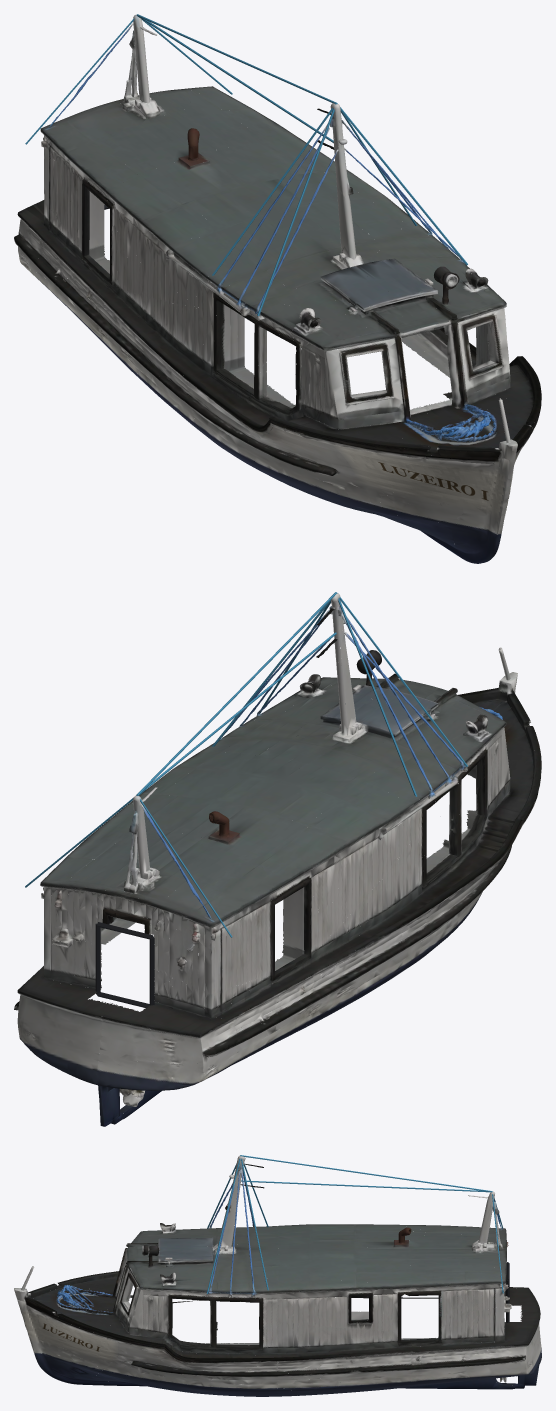
The model's file is luzeiro_a.glb.
3 views of the same model, one above another, from view 1: azimuth 30°, elevation 25°; view 2: azimuth 150°, elevation 25°; view 3: azimuth 270°, elevation 25° (orthographic). The views are drawn at different scales.
Visible parts, largest first — view 1: Luzeiro_casco, Nome_boreste, Cordas; view 2: Luzeiro_casco, Cordas, Porta_popa; view 3: Luzeiro_casco, Nome_bombordo, Cordas.
Boxes of the visible parts, left/top/right/bottom form: Luzeiro_casco: left=14, top=14, right=541, bottom=563; Nome_boreste: left=333, top=443, right=506, bottom=517; Cordas: left=25, top=14, right=467, bottom=315; Luzeiro_casco: left=14, top=593, right=541, bottom=1126; Cordas: left=25, top=592, right=467, bottom=937; Porta_popa: left=95, top=922, right=154, bottom=1008; Luzeiro_casco: left=14, top=1155, right=541, bottom=1396; Nome_bombordo: left=22, top=1309, right=117, bottom=1361; Cordas: left=206, top=1155, right=503, bottom=1293.
Bounding box in the file's own units: 5.27 × 7.32 × 15.
4 materials, 2 textured.
